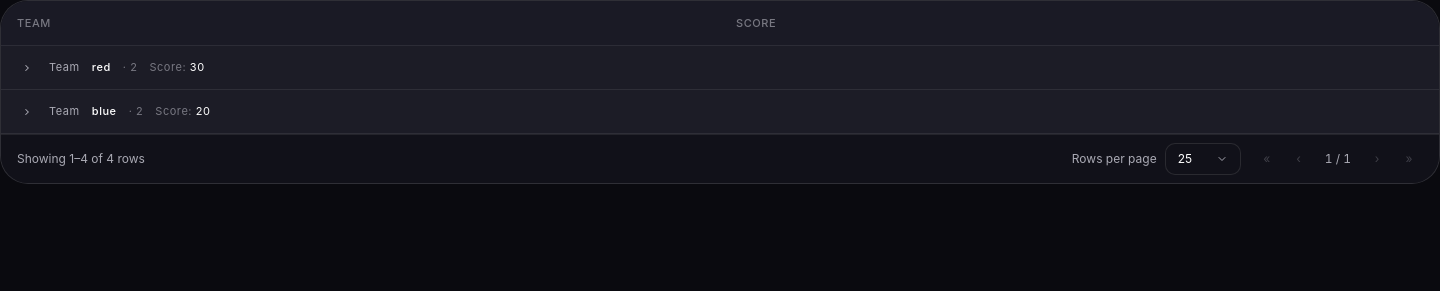
Test: DataTable — grouping + aggregation › clicking a group header expands its rows
Expected: the text "10" is not shown
Click the red group row.
What coordinates should you click on to do the following:
click the text "red"
I would click on:
 (720, 68)
Its box is [1,46,1439,90].
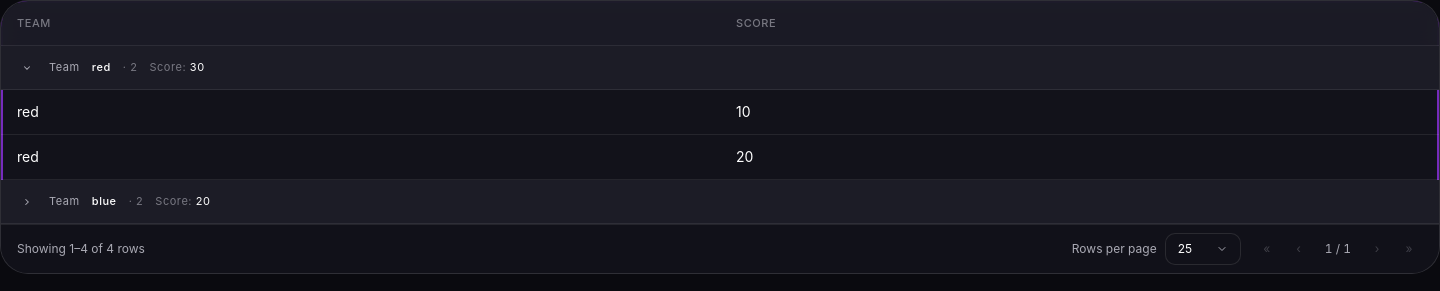
Expected: the text "10" is shown, [736,102,750,122]
